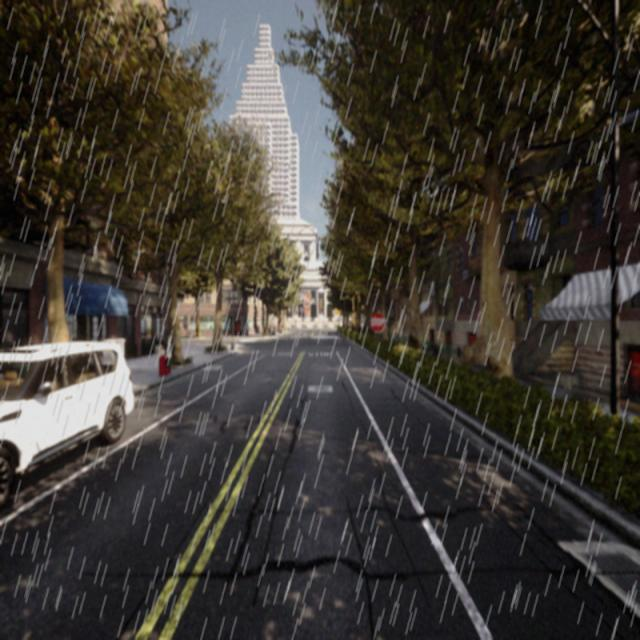stop sign: (368, 307, 387, 335)
